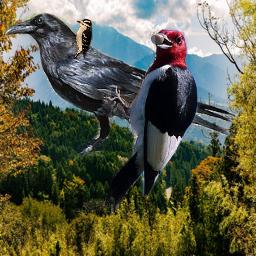Crow: (4, 12, 246, 160)
Woodpecker: (97, 17, 201, 219), (69, 18, 93, 59)
